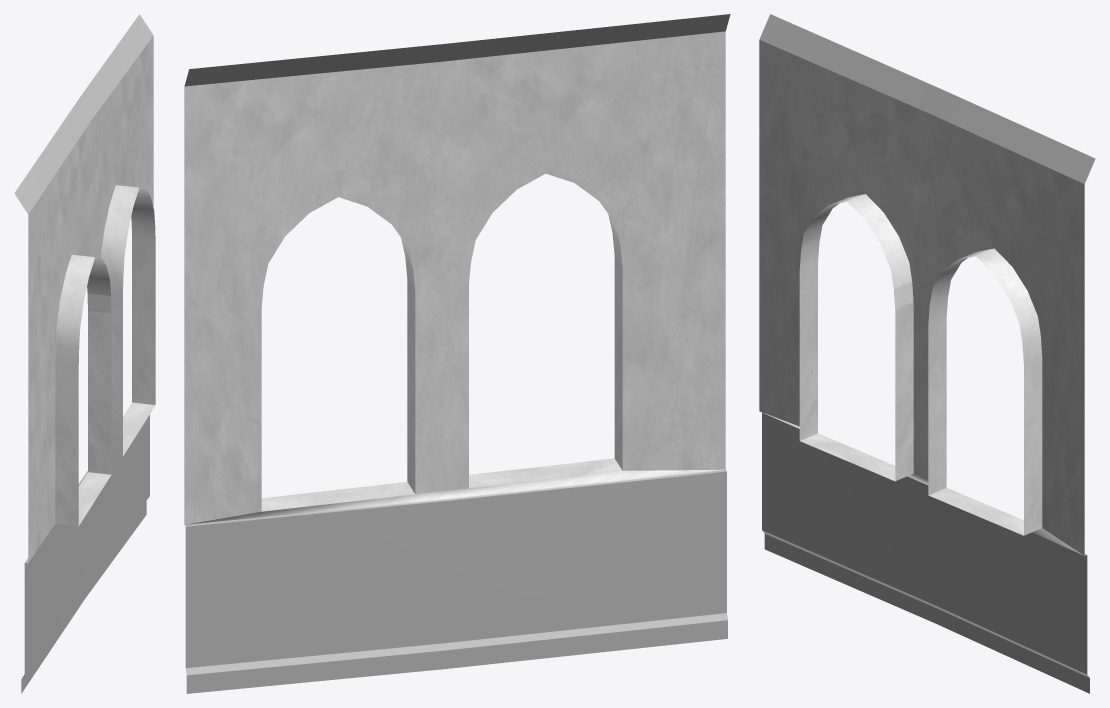
Rendered from WallIntDiagWindow2RoundedC.fbx.
3 renders of one model, left to right at view 1: azimuth 30°, elevation 25°; view 2: azimuth 150°, elevation 25°; view 3: azimuth 270°, elevation 25°, orthographic. The views are drawn at different scales.
Visible parts, largest first — view 1: WallIntDiagWindow2RoundedC; view 2: WallIntDiagWindow2RoundedC; view 3: WallIntDiagWindow2RoundedC.
Part boxes in pixels (<box>): WallIntDiagWindow2RoundedC: <box>14,14,155,693</box>; WallIntDiagWindow2RoundedC: <box>184,14,730,693</box>; WallIntDiagWindow2RoundedC: <box>759,14,1095,693</box>.
Size of the model in its own units: 228 by 380 by 217.
